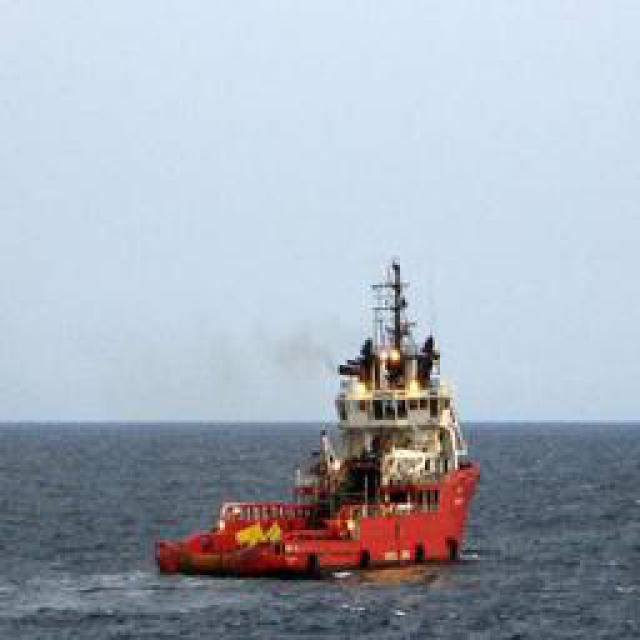Ship: (160, 248, 478, 603)
